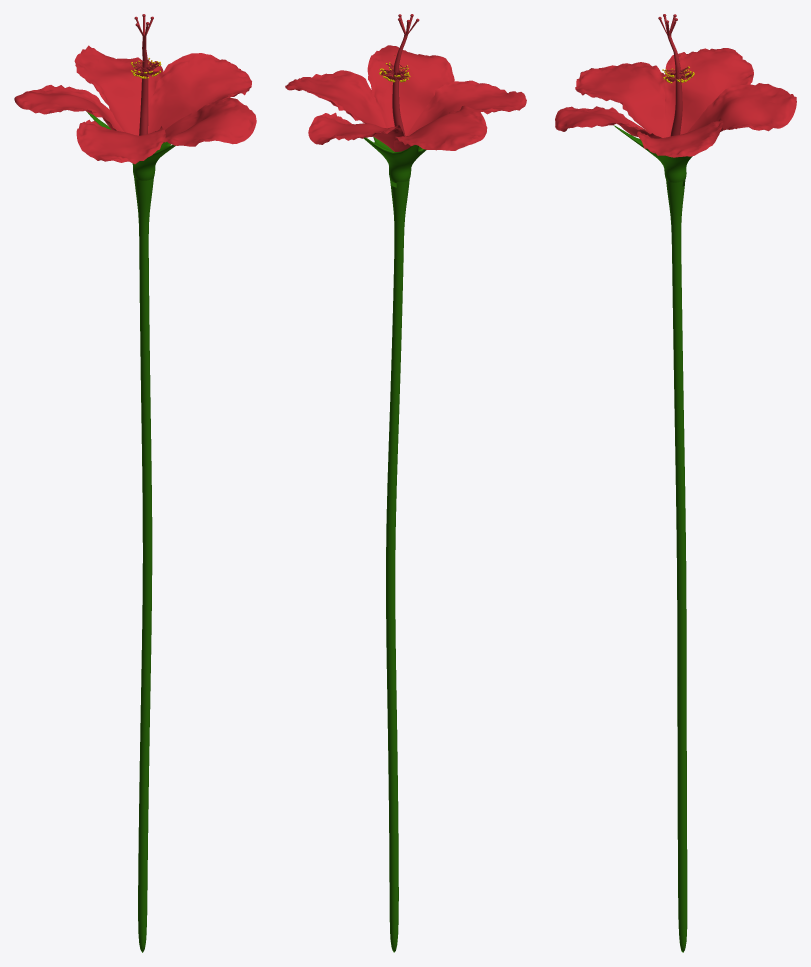
File: RedHibiscus.fbx
3 renders of one model, left to right at view 1: azimuth 30°, elevation 25°; view 2: azimuth 150°, elevation 25°; view 3: azimuth 270°, elevation 25°, orthographic.
Parts seen in each view (by area): view 1: RedHibiscus_Head, RedHibiscus_Stem; view 2: RedHibiscus_Head, RedHibiscus_Stem; view 3: RedHibiscus_Head, RedHibiscus_Stem.
Part boxes in pixels (box(x1,y1,x2,y2)): RedHibiscus_Head: box(14, 14, 256, 180); RedHibiscus_Stem: box(134, 177, 153, 952); RedHibiscus_Head: box(285, 14, 526, 182); RedHibiscus_Stem: box(386, 179, 409, 952); RedHibiscus_Head: box(555, 14, 796, 182); RedHibiscus_Stem: box(666, 180, 687, 952).
Size of the model in its own units: 0.1401 by 0.6 by 0.1408.
